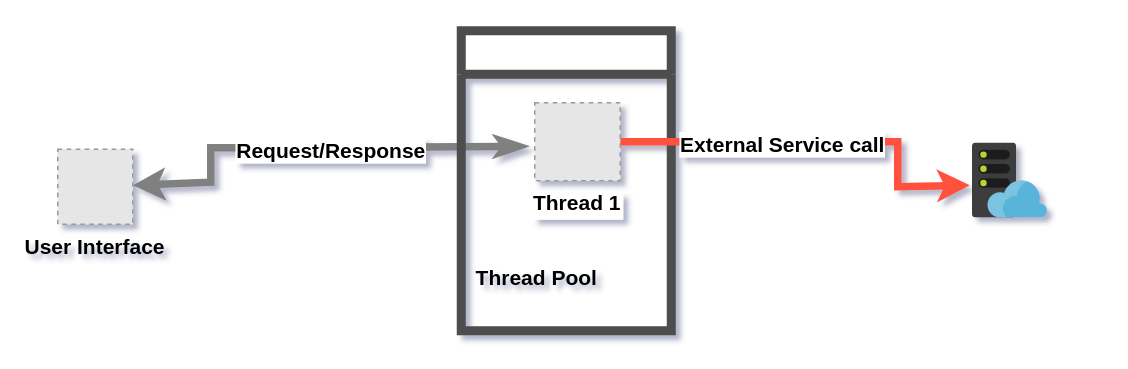
The diagram is 1128 pixels wide and 369 high, and some of its shapes have lost their labels. Grey dashed boxes stand in for pictures. Here are the shapes that lost their labels. From the top down, the box of each, then its label:
(456, 26, 675, 334): Servlet container
(972, 142, 1047, 218): External Service
